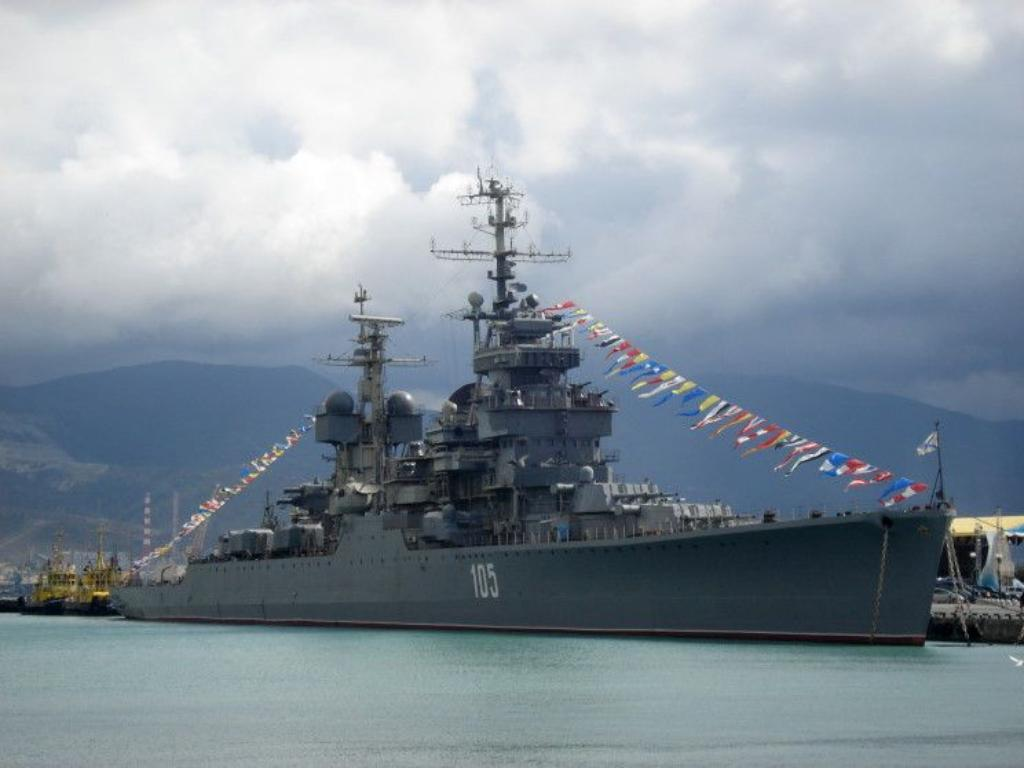Warship: (111, 160, 957, 648)
